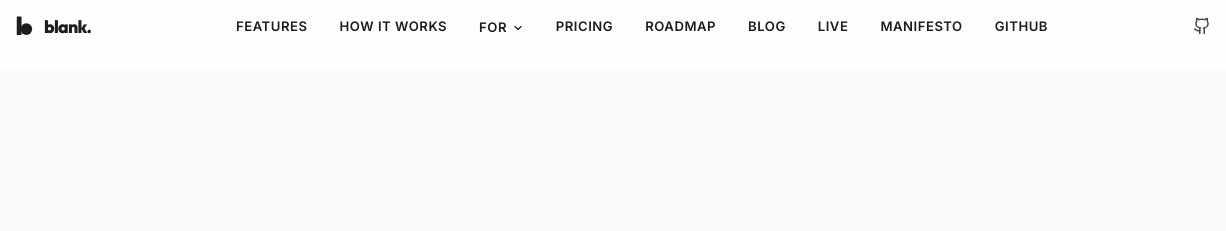
Test: LandingNav — 'For' dropdown (§15.x) › dropdown renders 4 audience links: Individuals / Creators / Businesses / DAOs
Click the button "For": click(501, 28) [479,18,524,38]
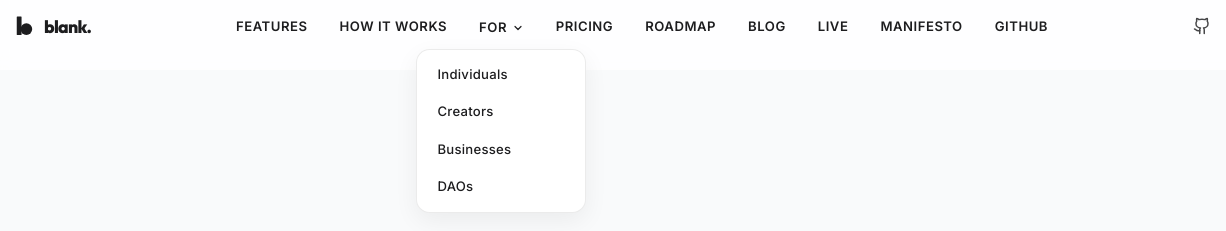
Now the menu item to "https://www.myblank.app/for/individuals" is shown, box [437,66,508,82]
Now the menu item to "https://www.myblank.app/for/creators" is shown, box [437,103,494,119]
Now the menu item to "https://www.myblank.app/for/businesses" is shown, box [437,141,511,157]
